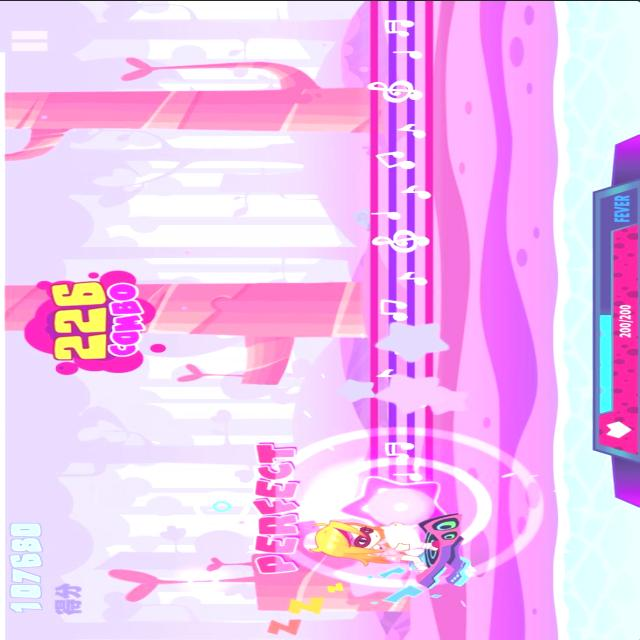hold: (334, 0, 464, 523)
